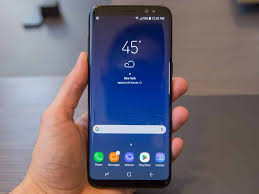samsung: (85, 2, 174, 188)
